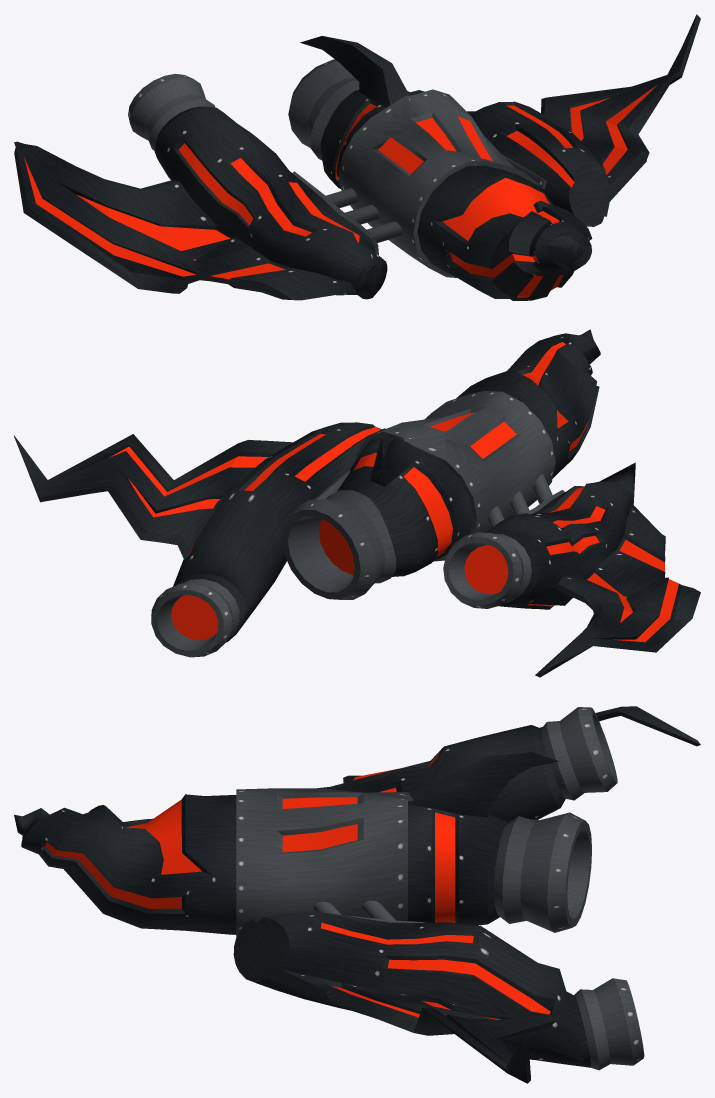
File: Bloaty_40.fbx
3 renders of one model, top to bottom at view 1: azimuth 30°, elevation 25°; view 2: azimuth 150°, elevation 25°; view 3: azimuth 270°, elevation 25°, orthographic. The views are drawn at different scales.
Visible parts, largest first — view 1: rightBooster, Boaty_40, leftBooster1, polySurface12; view 2: Boaty_40, leftBooster1, rightBooster; view 3: Boaty_40, leftBooster1, rightBooster.
Boxes of the visible parts, bbox=[...] form: rightBooster: bbox=[14, 73, 387, 300]; Boaty_40: bbox=[288, 36, 592, 300]; leftBooster1: bbox=[467, 14, 700, 226]; polySurface12: bbox=[367, 221, 402, 242]; Boaty_40: bbox=[282, 329, 600, 599]; leftBooster1: bbox=[14, 422, 385, 657]; rightBooster: bbox=[443, 462, 700, 677]; Boaty_40: bbox=[14, 752, 591, 936]; leftBooster1: bbox=[233, 911, 644, 1083]; rightBooster: bbox=[317, 706, 700, 822].
Bounding box in the file's own units: 50.12 × 15.04 × 40.47.
